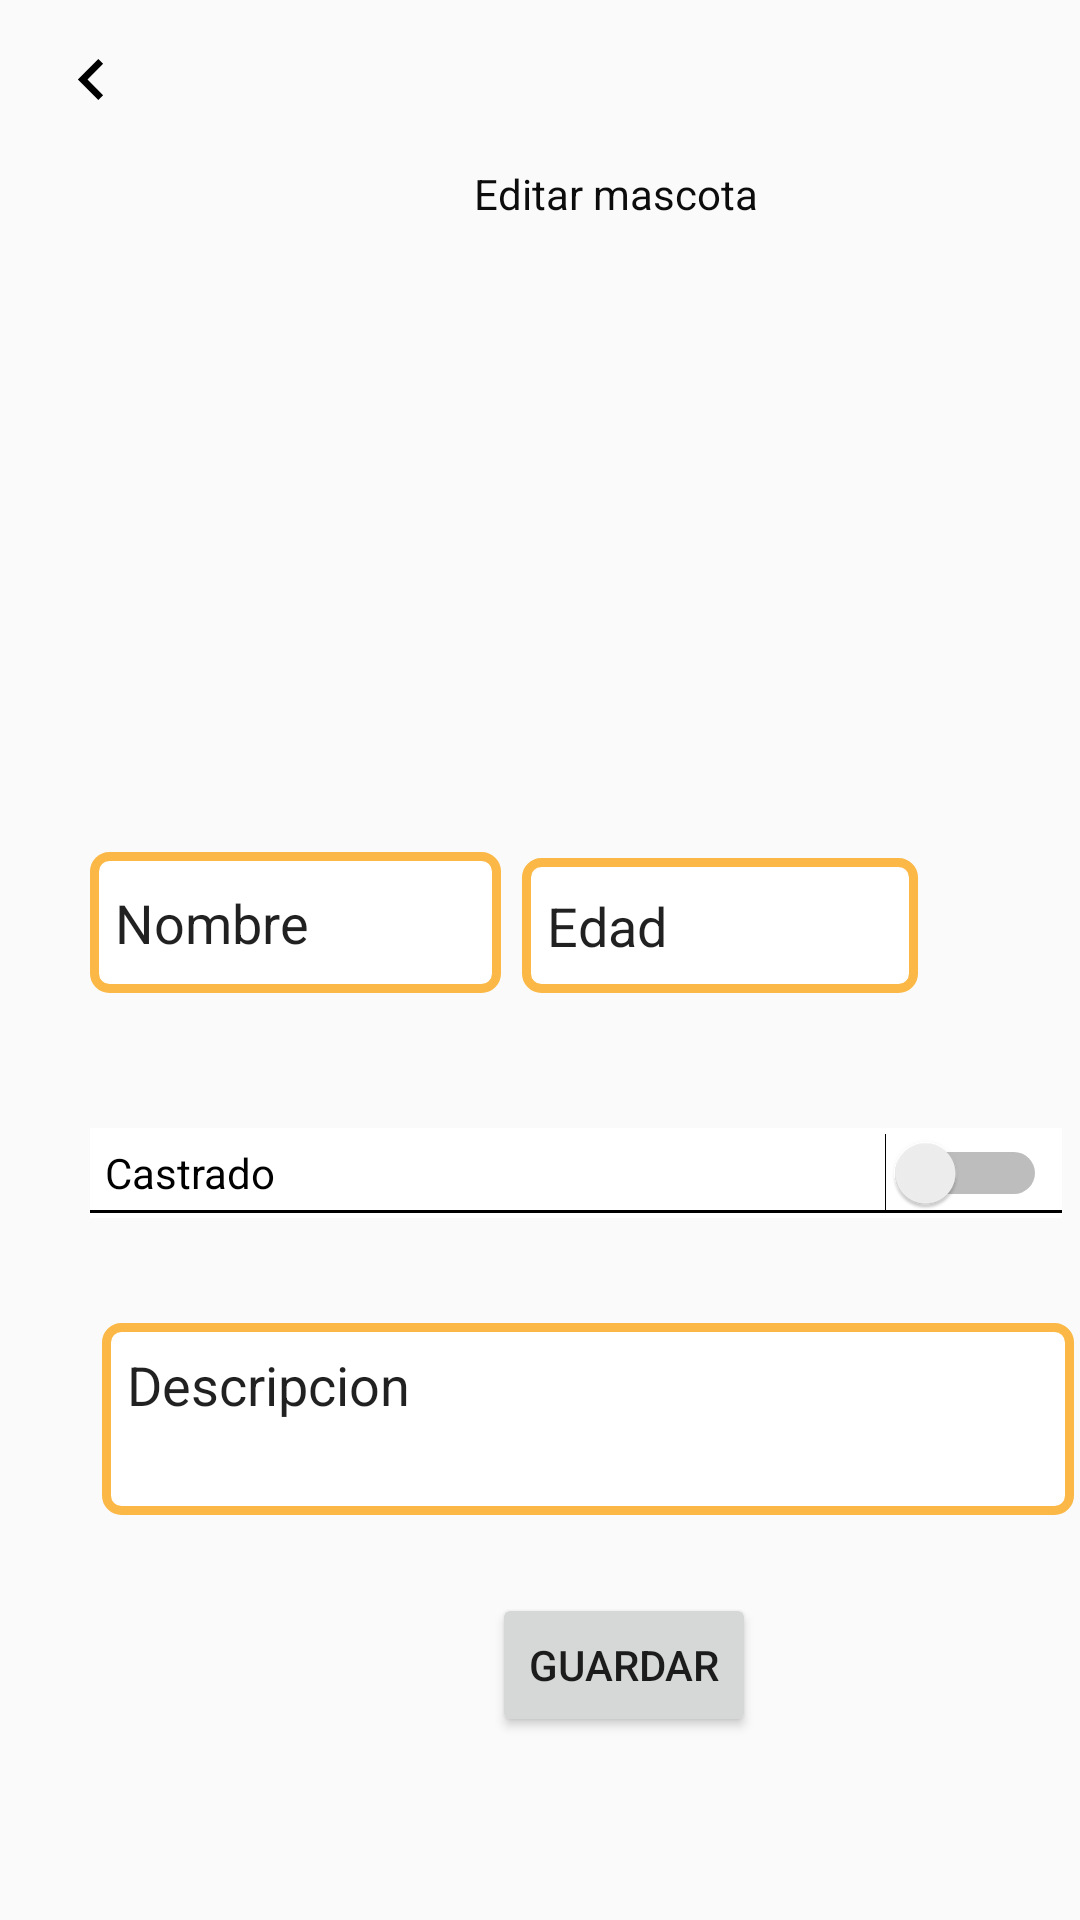

Icons on this 1080w x 1920h Android screen, each with the point to tap as (x,y):
leftkey: (90,79)
